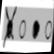correct: (31, 19, 40, 41)
not correct: (2, 4, 18, 50)
